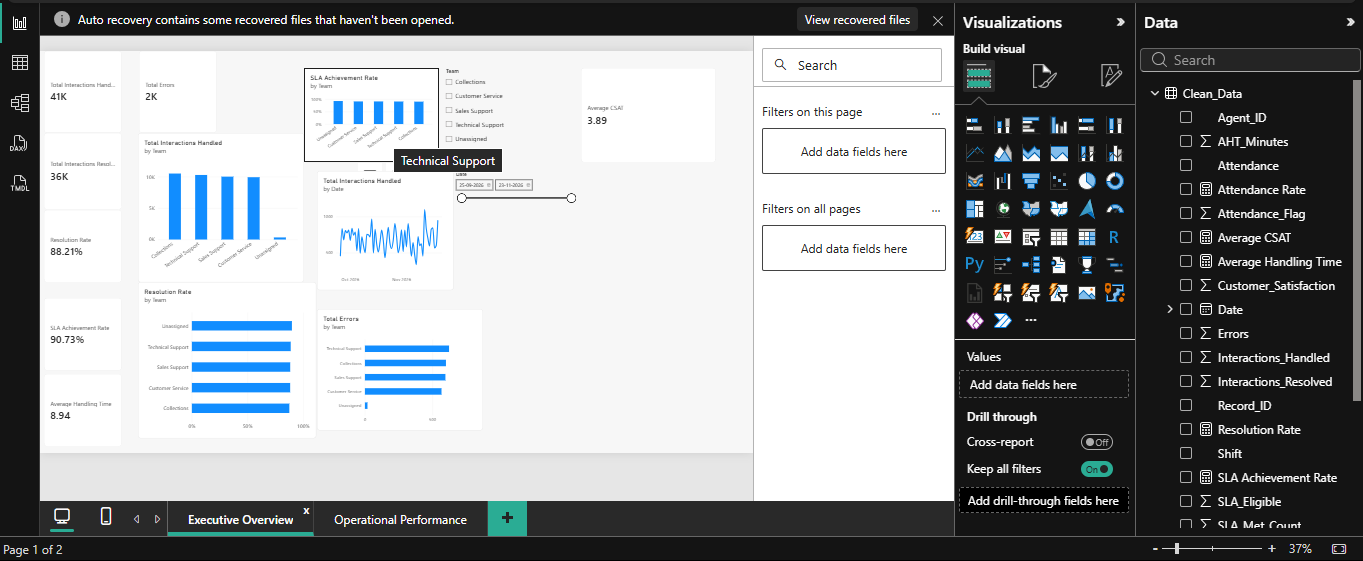

The page's visual inventory and layout, read from the dashboard file:
{"tool":"powerbi","page":{"name":"Executive Overview","canvas":[1920,1080],"ordinal":0},"visuals":[{"type":"cardVisual","fields":{"Data":["Clean_Data.Total Interactions Handled"]},"box":[11.2,0,209.3,220.5],"z":0},{"type":"cardVisual","fields":{"Data":["Clean_Data.Total Interactions Resolved"]},"box":[11.2,220.5,209.3,206.5],"z":1},{"type":"cardVisual","fields":{"Data":["Clean_Data.Resolution Rate"]},"box":[11.2,427,209.3,195.3],"z":2},{"type":"cardVisual","fields":{"Data":["Clean_Data.SLA Achievement Rate"]},"box":[11,664.5,209,195],"z":3},{"type":"cardVisual","fields":{"Data":["Clean_Data.Average Handling Time"]},"box":[11,870,209,195],"z":4},{"type":"cardVisual","fields":{"Data":["Clean_Data.Total Errors"]},"box":[265.5,0,209,220],"z":5},{"type":"clusteredColumnChart","fields":{"Category":["Clean_Data.Team"],"Y":["Clean_Data.Total Interactions Handled"]},"box":[265.1,220.5,446.5,401.9],"z":6},{"type":"clusteredBarChart","fields":{"Category":["Clean_Data.Team"],"Y":["Clean_Data.Resolution Rate"]},"box":[265.1,622.3,480,421.4],"z":7},{"type":"clusteredColumnChart","fields":{"Category":["Clean_Data.Team"],"Y":["Clean_Data.SLA Achievement Rate"]},"box":[711.6,44.7,362.8,254],"z":8},{"type":"lineChart","fields":{"Category":["Clean_Data.Date"],"Y":["Clean_Data.Total Interactions Handled"]},"box":[745.1,323.7,368.4,320.9],"z":9},{"type":"clusteredBarChart","fields":{"Category":["Clean_Data.Team"],"Y":["Clean_Data.Total Errors"]},"box":[745.1,694.9,447,327],"z":10},{"type":"slicer","fields":{"Values":["Clean_Data.Team"]},"box":[1085,45,363,254],"z":11},{"type":"slicer","fields":{"Values":["Clean_Data.Date"]},"box":[1113,324,335,321],"z":12},{"type":"cardVisual","fields":{"Data":["Clean_Data.Average CSAT"]},"box":[1458,45,363,254],"z":13}]}

Visuals, with their boxes on the page's 1920x1080 design canvas (x1, y1, x2, y2). These are canvas units, not pixel positions in the 1363x561 screenshot, which may show the page scaled, cropped or inside an application window:
cardVisual - Clean_Data.Total Interactions Handled: x1=11, y1=0, x2=220, y2=220
cardVisual - Clean_Data.Total Interactions Resolved: x1=11, y1=220, x2=220, y2=427
cardVisual - Clean_Data.Resolution Rate: x1=11, y1=427, x2=220, y2=622
cardVisual - Clean_Data.SLA Achievement Rate: x1=11, y1=664, x2=220, y2=860
cardVisual - Clean_Data.Average Handling Time: x1=11, y1=870, x2=220, y2=1065
cardVisual - Clean_Data.Total Errors: x1=266, y1=0, x2=474, y2=220
clusteredColumnChart - Clean_Data.Team x Clean_Data.Total Interactions Handled: x1=265, y1=220, x2=712, y2=622
clusteredBarChart - Clean_Data.Team x Clean_Data.Resolution Rate: x1=265, y1=622, x2=745, y2=1044
clusteredColumnChart - Clean_Data.Team x Clean_Data.SLA Achievement Rate: x1=712, y1=45, x2=1074, y2=299
lineChart - Clean_Data.Date x Clean_Data.Total Interactions Handled: x1=745, y1=324, x2=1114, y2=645
clusteredBarChart - Clean_Data.Team x Clean_Data.Total Errors: x1=745, y1=695, x2=1192, y2=1022
slicer - Clean_Data.Team: x1=1085, y1=45, x2=1448, y2=299
slicer - Clean_Data.Date: x1=1113, y1=324, x2=1448, y2=645
cardVisual - Clean_Data.Average CSAT: x1=1458, y1=45, x2=1821, y2=299
